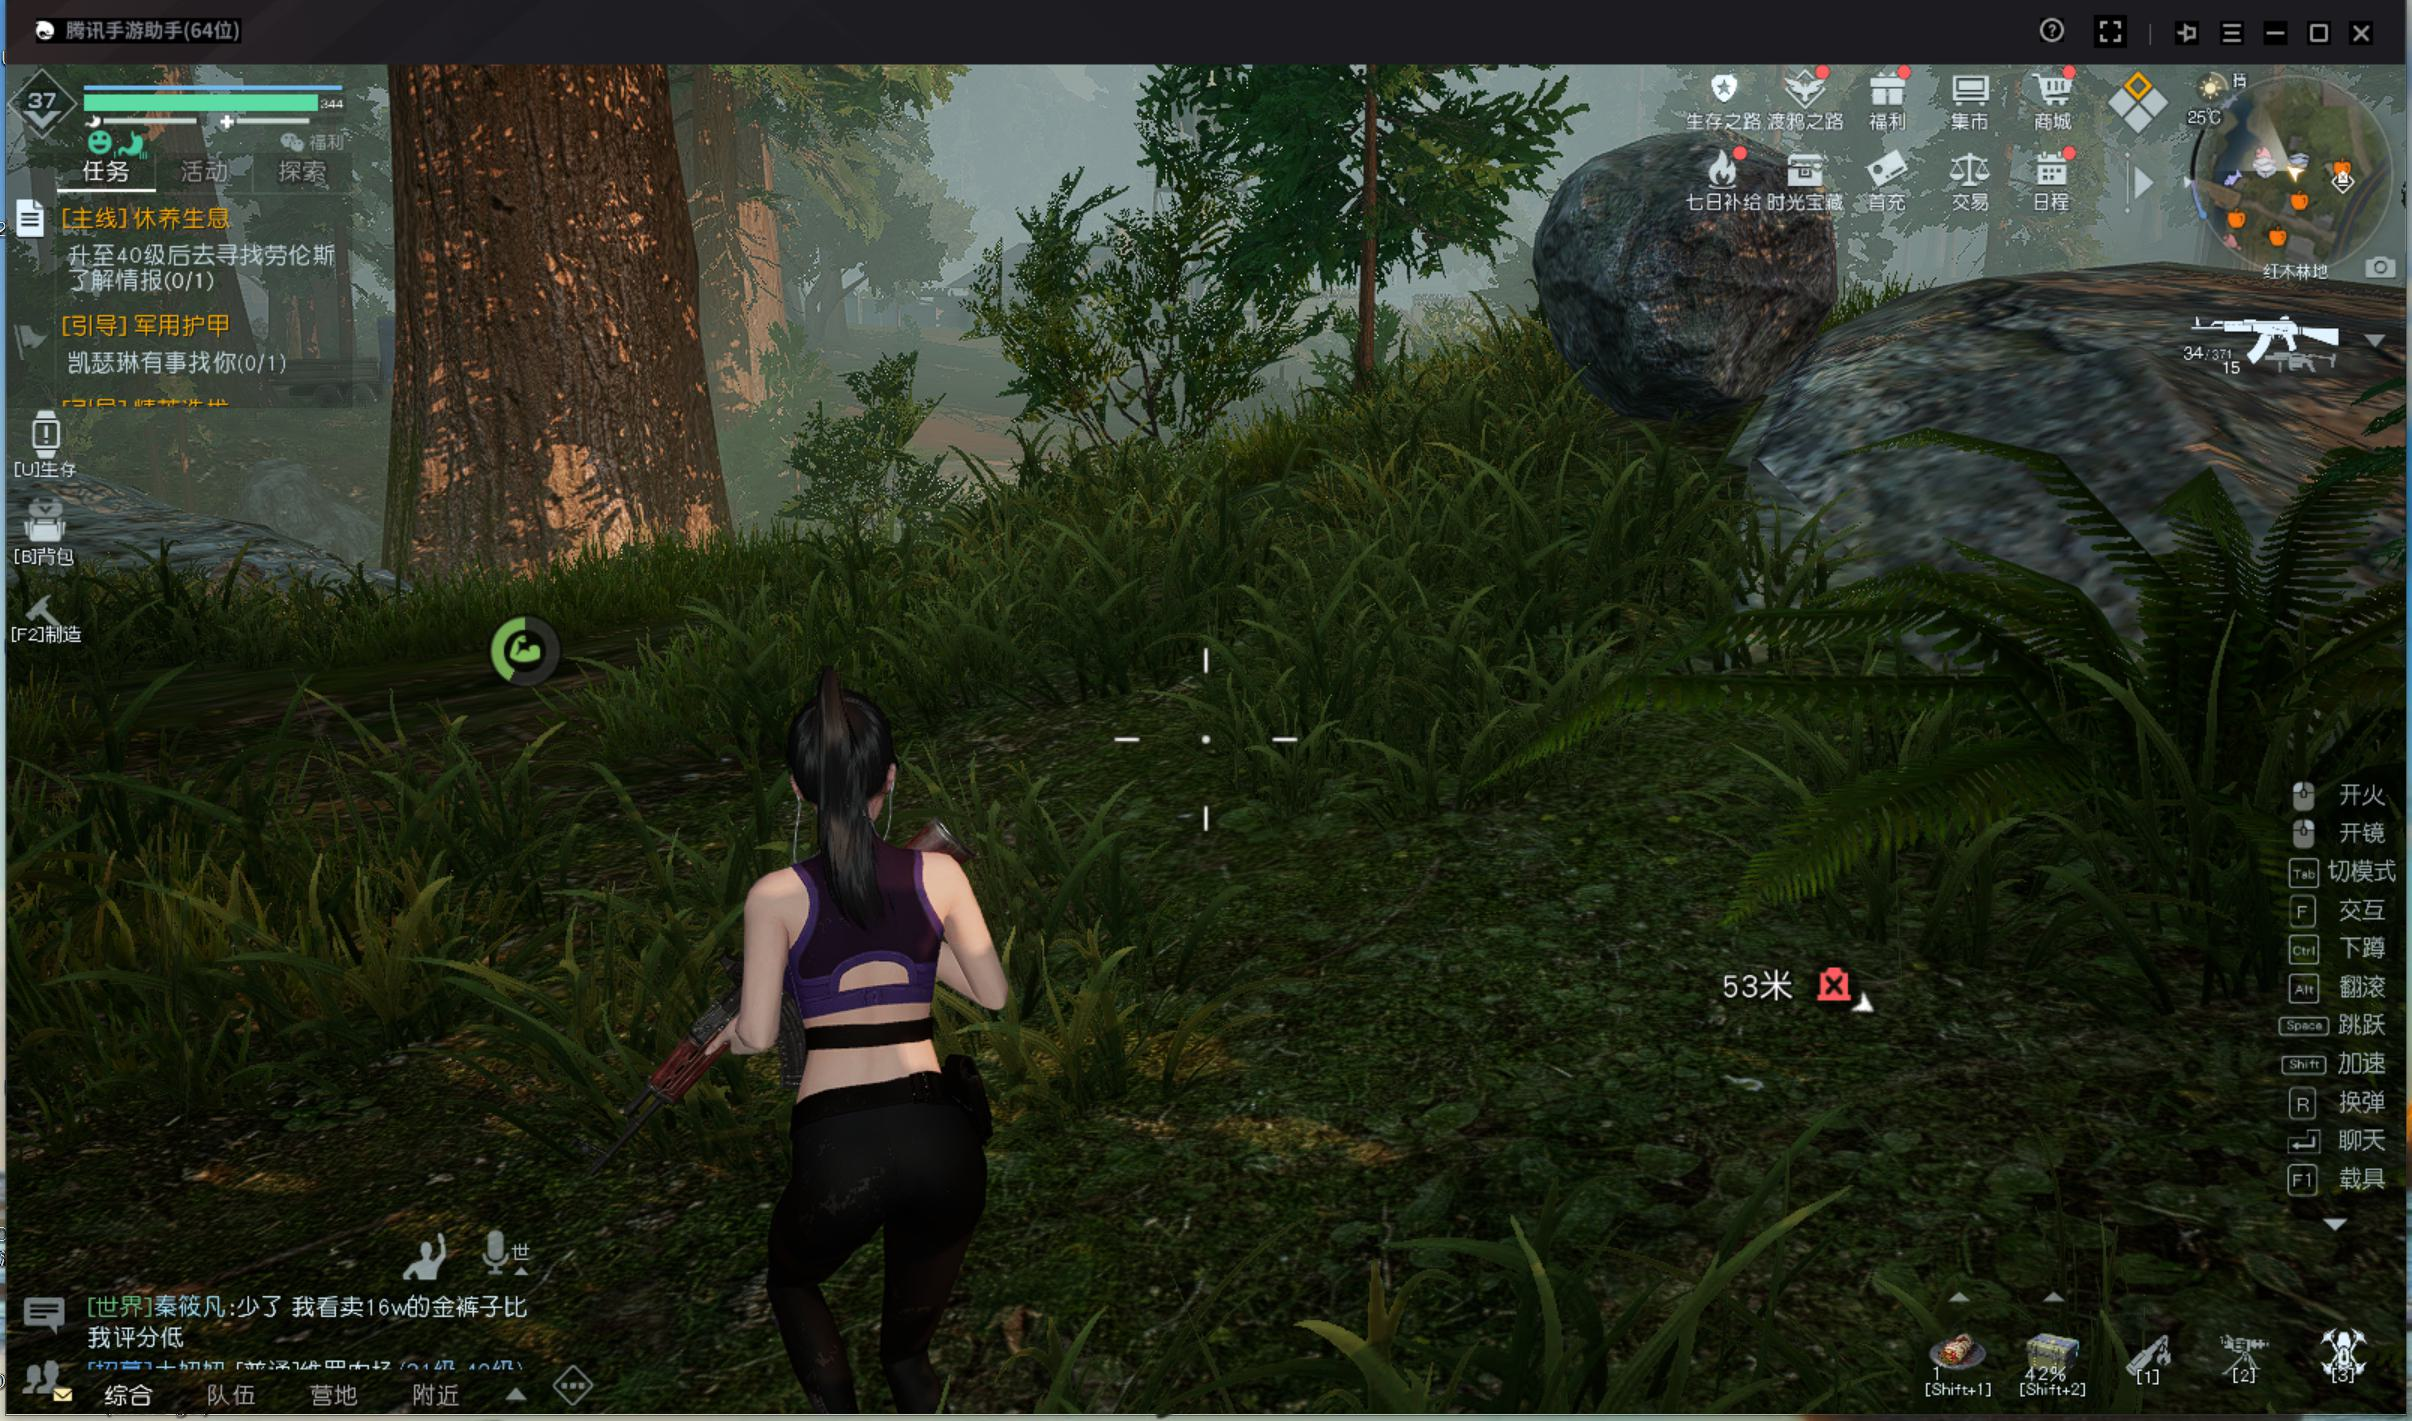tree: (355, 81, 726, 587)
